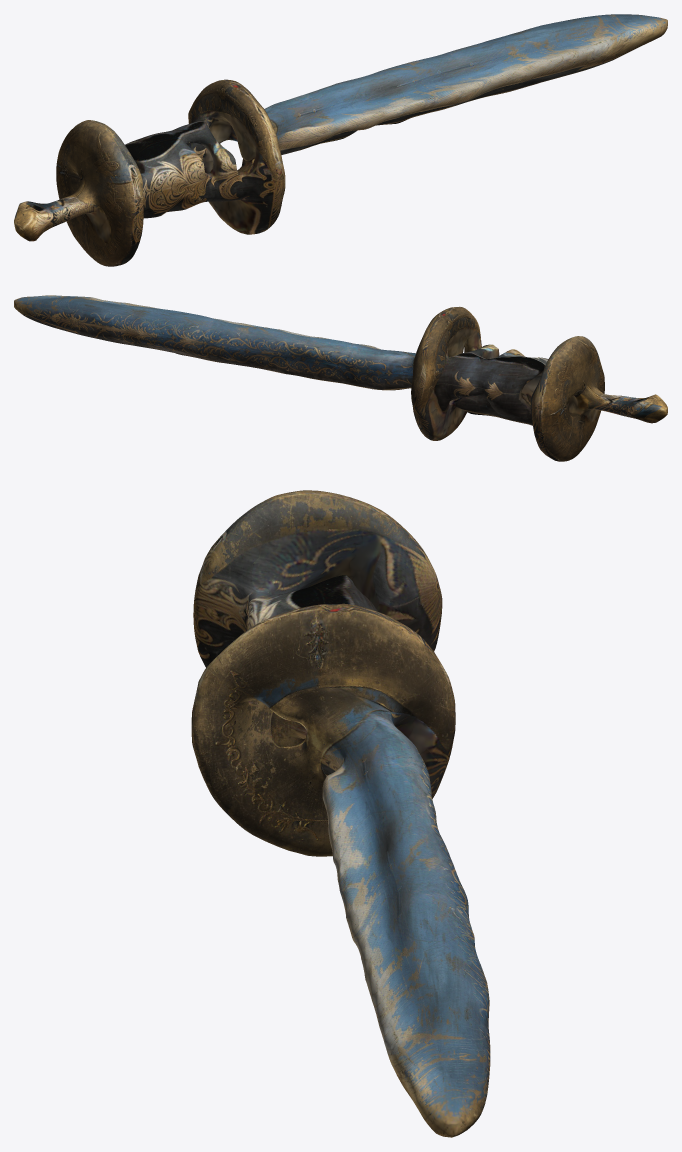
The model's file is swords1.obj.
3 views of the same model, one above another, from view 1: azimuth 30°, elevation 25°; view 2: azimuth 150°, elevation 25°; view 3: azimuth 270°, elevation 25° (orthographic). The views are drawn at different scales.
Parts seen in each view (by area): view 1: Mesh_0; view 2: Mesh_0; view 3: Mesh_0.
Boxes of the visible parts, left/top/right/bottom form: Mesh_0: left=14, top=14, right=667, bottom=266; Mesh_0: left=14, top=295, right=667, bottom=461; Mesh_0: left=191, top=490, right=490, bottom=1137.
Bounding box in the file's own units: 1.2 × 0.2327 × 0.2561.
1 material, 1 textured.
